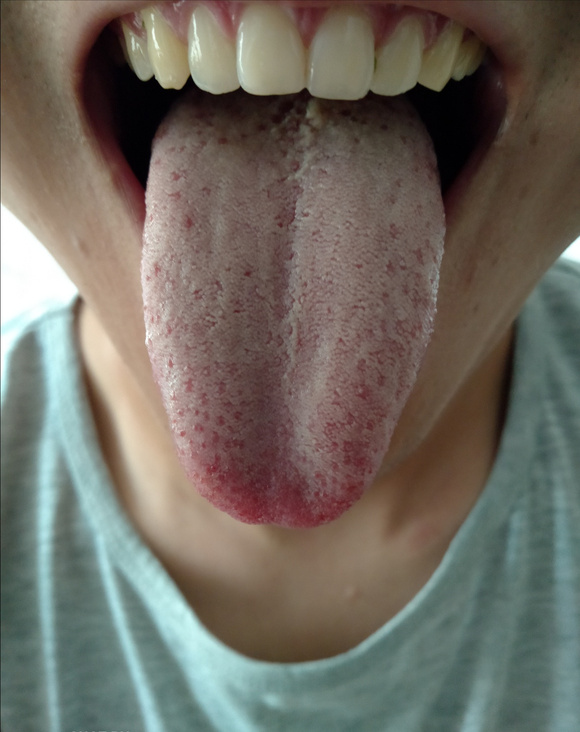baitaishe: (142, 87, 446, 529)
hongdianshe: (177, 426, 187, 439)
hongshe: (142, 87, 446, 529)
